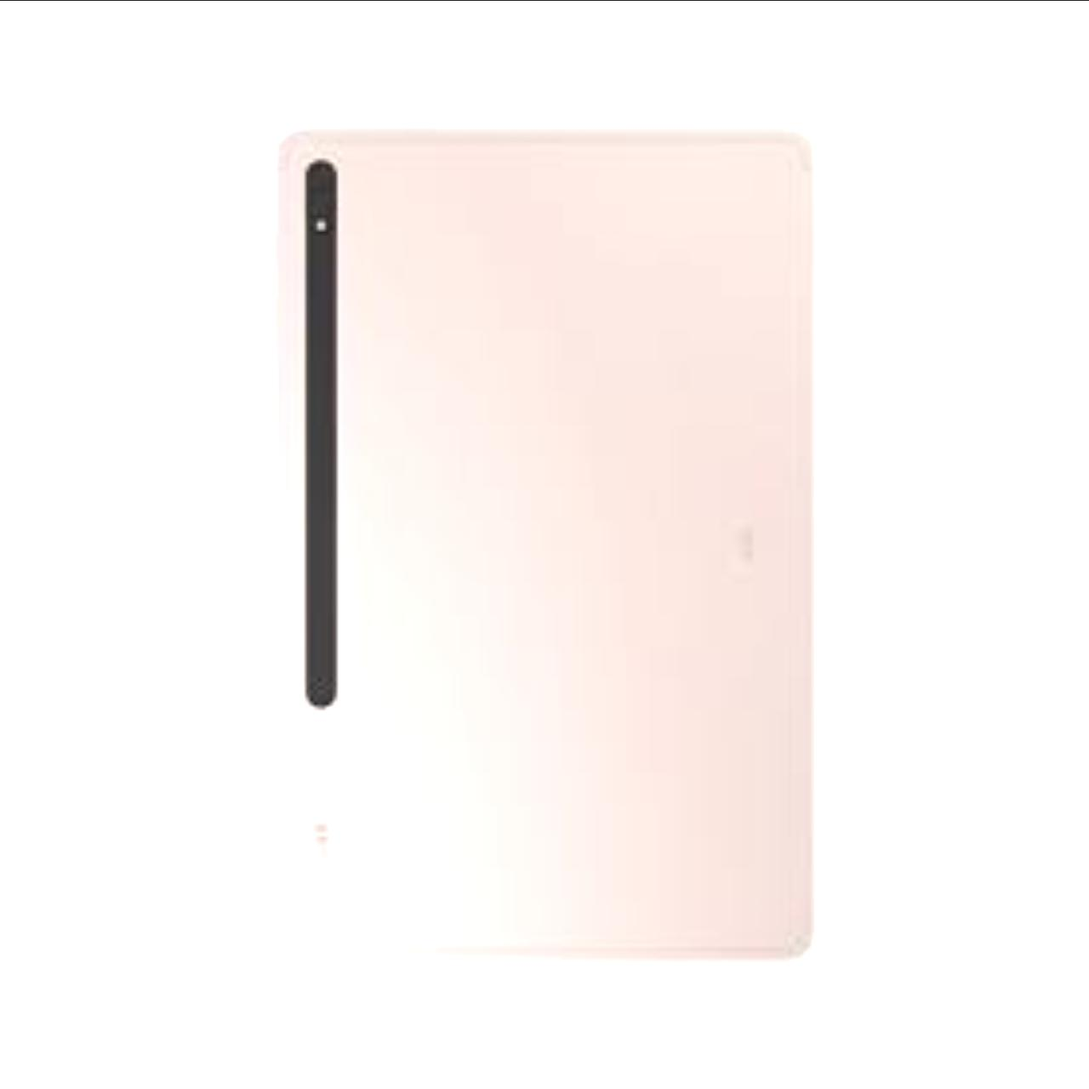Tablet_PC: (264, 117, 820, 967)
